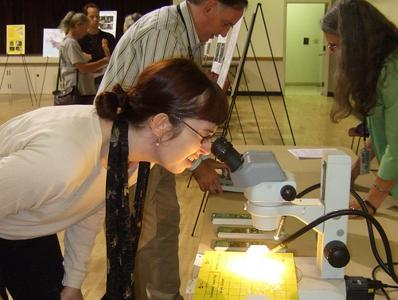person: (1, 60, 231, 299)
